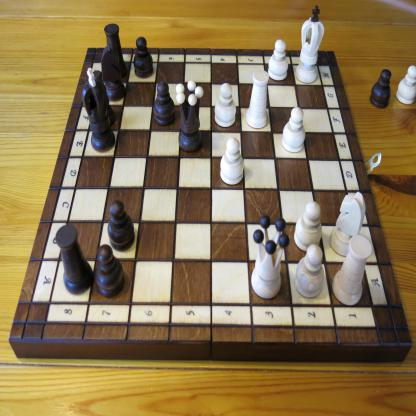black-bishop: (91, 70, 117, 128)
black-king: (81, 67, 116, 154)
black-knight: (100, 44, 126, 102)
black-pawn: (94, 243, 125, 299), (107, 199, 135, 252), (152, 80, 176, 127), (369, 68, 392, 110), (133, 36, 154, 79)
black-queen: (176, 80, 204, 154)
black-rook: (55, 223, 94, 296), (103, 22, 128, 80)
white-king: (295, 4, 325, 84)
white-knight: (328, 191, 366, 258)
white-pawn: (294, 244, 324, 299), (293, 201, 323, 253), (219, 136, 245, 186), (280, 106, 306, 153), (213, 82, 237, 128), (267, 39, 289, 81), (395, 64, 416, 106)
white-queen: (250, 214, 290, 300)
white-rook: (331, 234, 372, 307), (245, 68, 269, 130)
